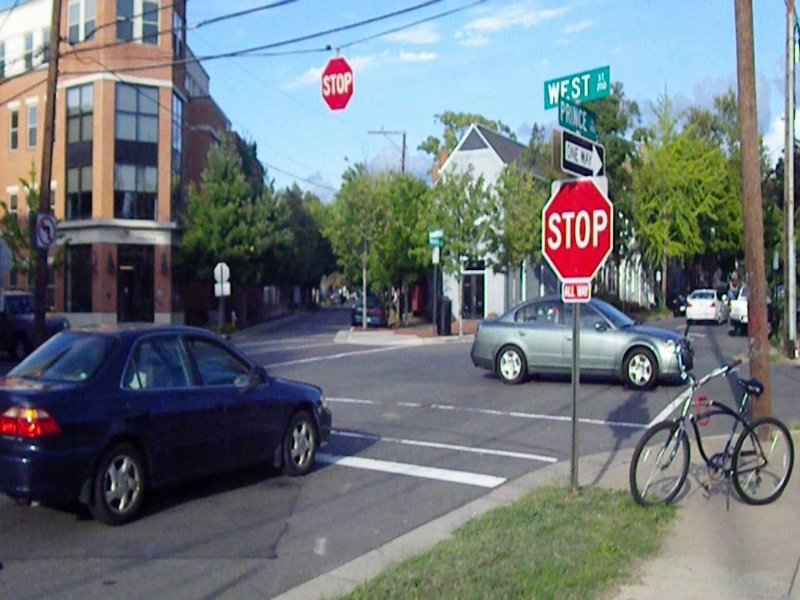stop sign: (538, 177, 617, 282), (316, 54, 359, 114)
